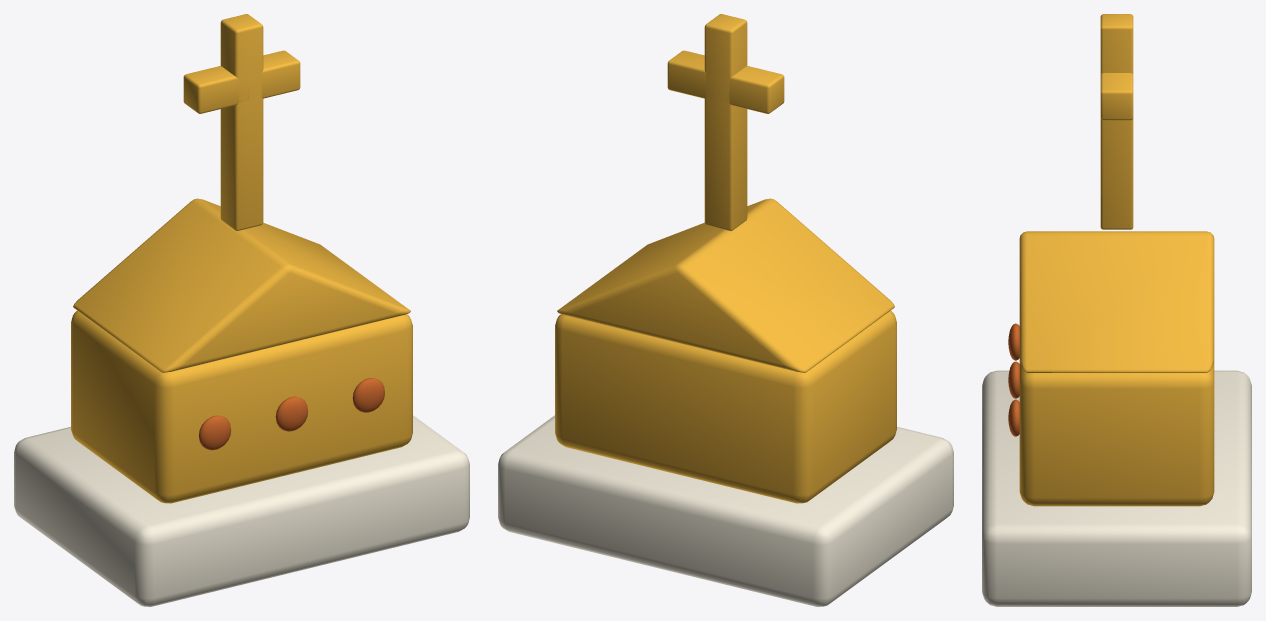
File: HolyRelic.fbx
3 renders of one model, left to right at view 1: azimuth 30°, elevation 25°; view 2: azimuth 150°, elevation 25°; view 3: azimuth 270°, elevation 25°, orthographic.
Parts seen in each view (by area): view 1: HolyRelic; view 2: HolyRelic; view 3: HolyRelic.
Part boxes in pixels (<box>): HolyRelic: <box>14,14,469,606</box>; HolyRelic: <box>498,14,953,606</box>; HolyRelic: <box>982,14,1251,606</box>.
Size of the model in its own units: 0.52 by 0.75 by 0.36.
